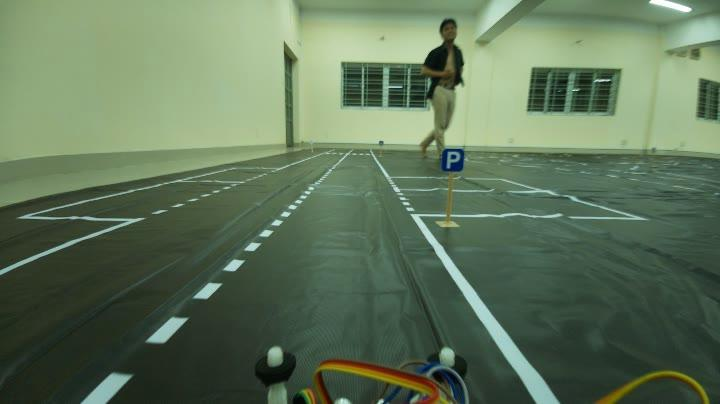parking: (438, 143, 465, 172)
